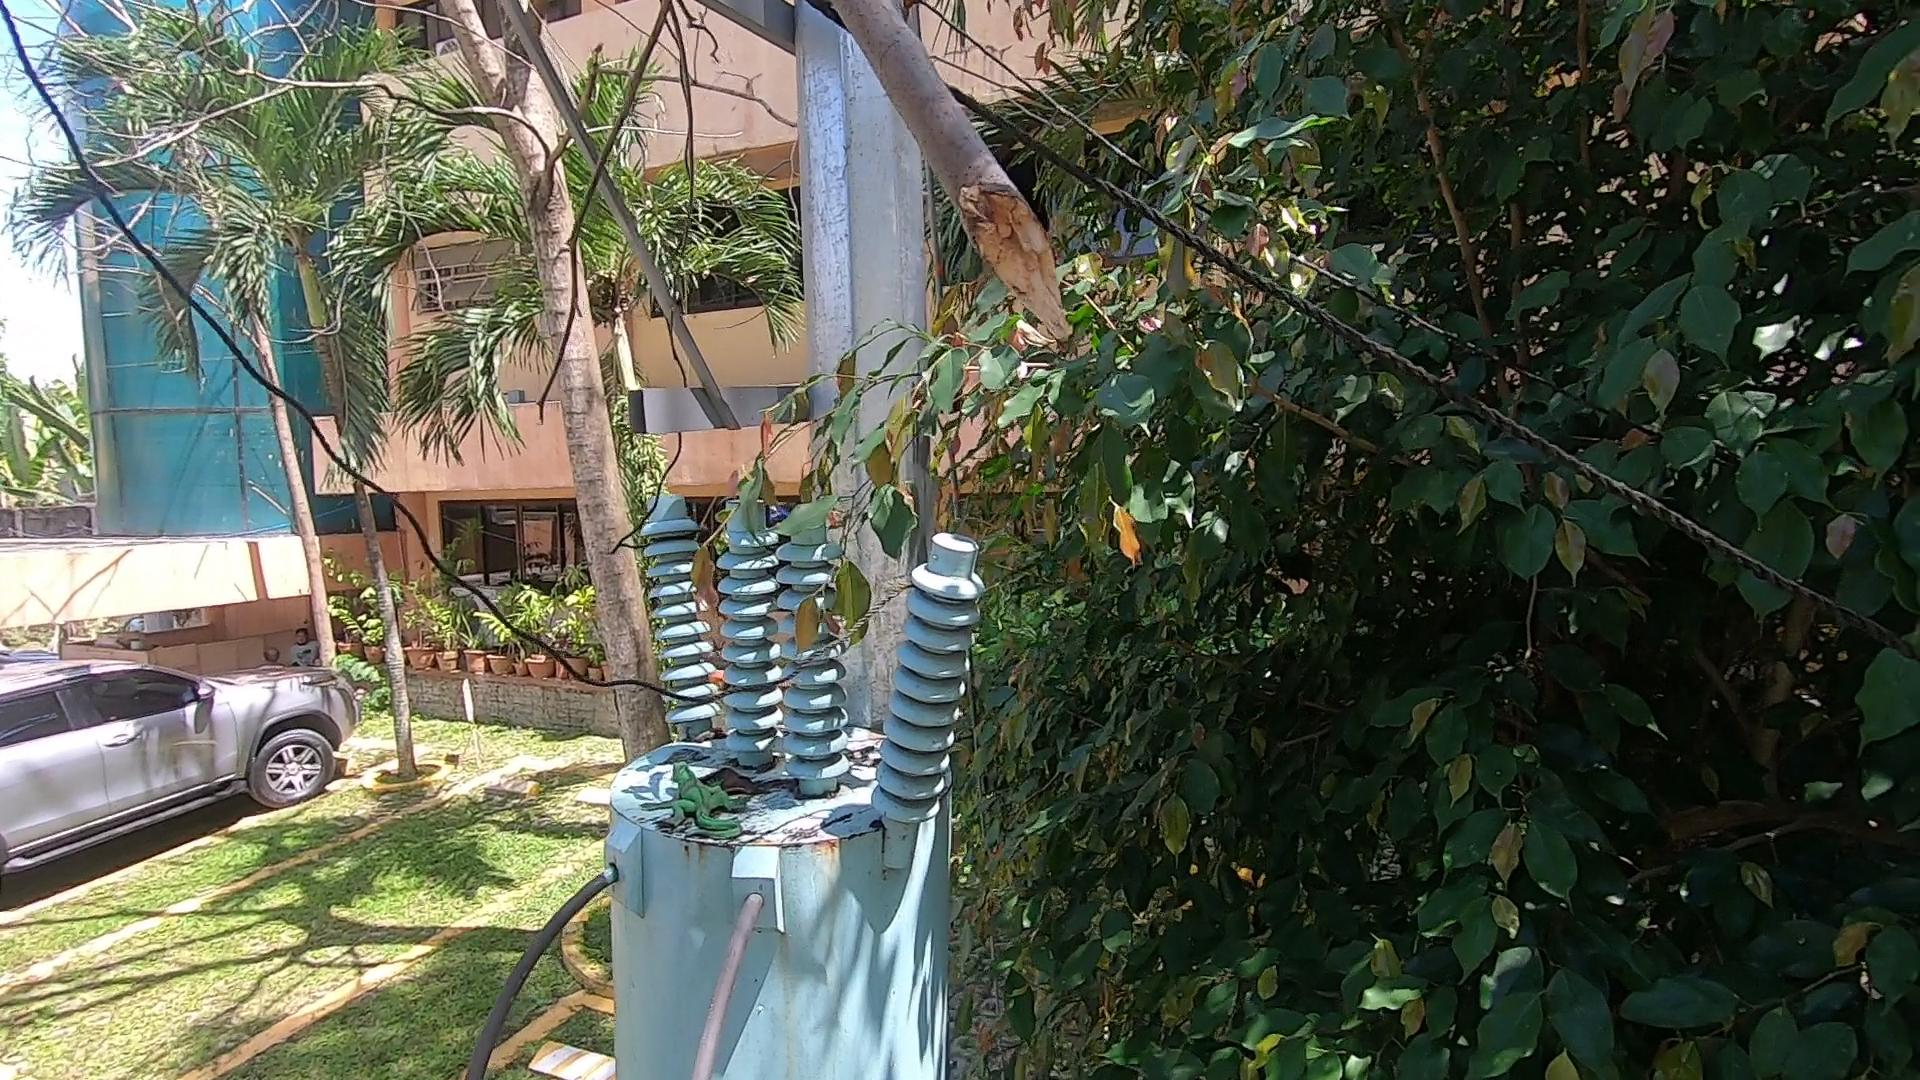branch with leaves: (666, 324, 943, 684)
leaf: (704, 765, 820, 803), (841, 740, 884, 765), (691, 727, 735, 749)
tree branch: (779, 9, 1085, 363)
